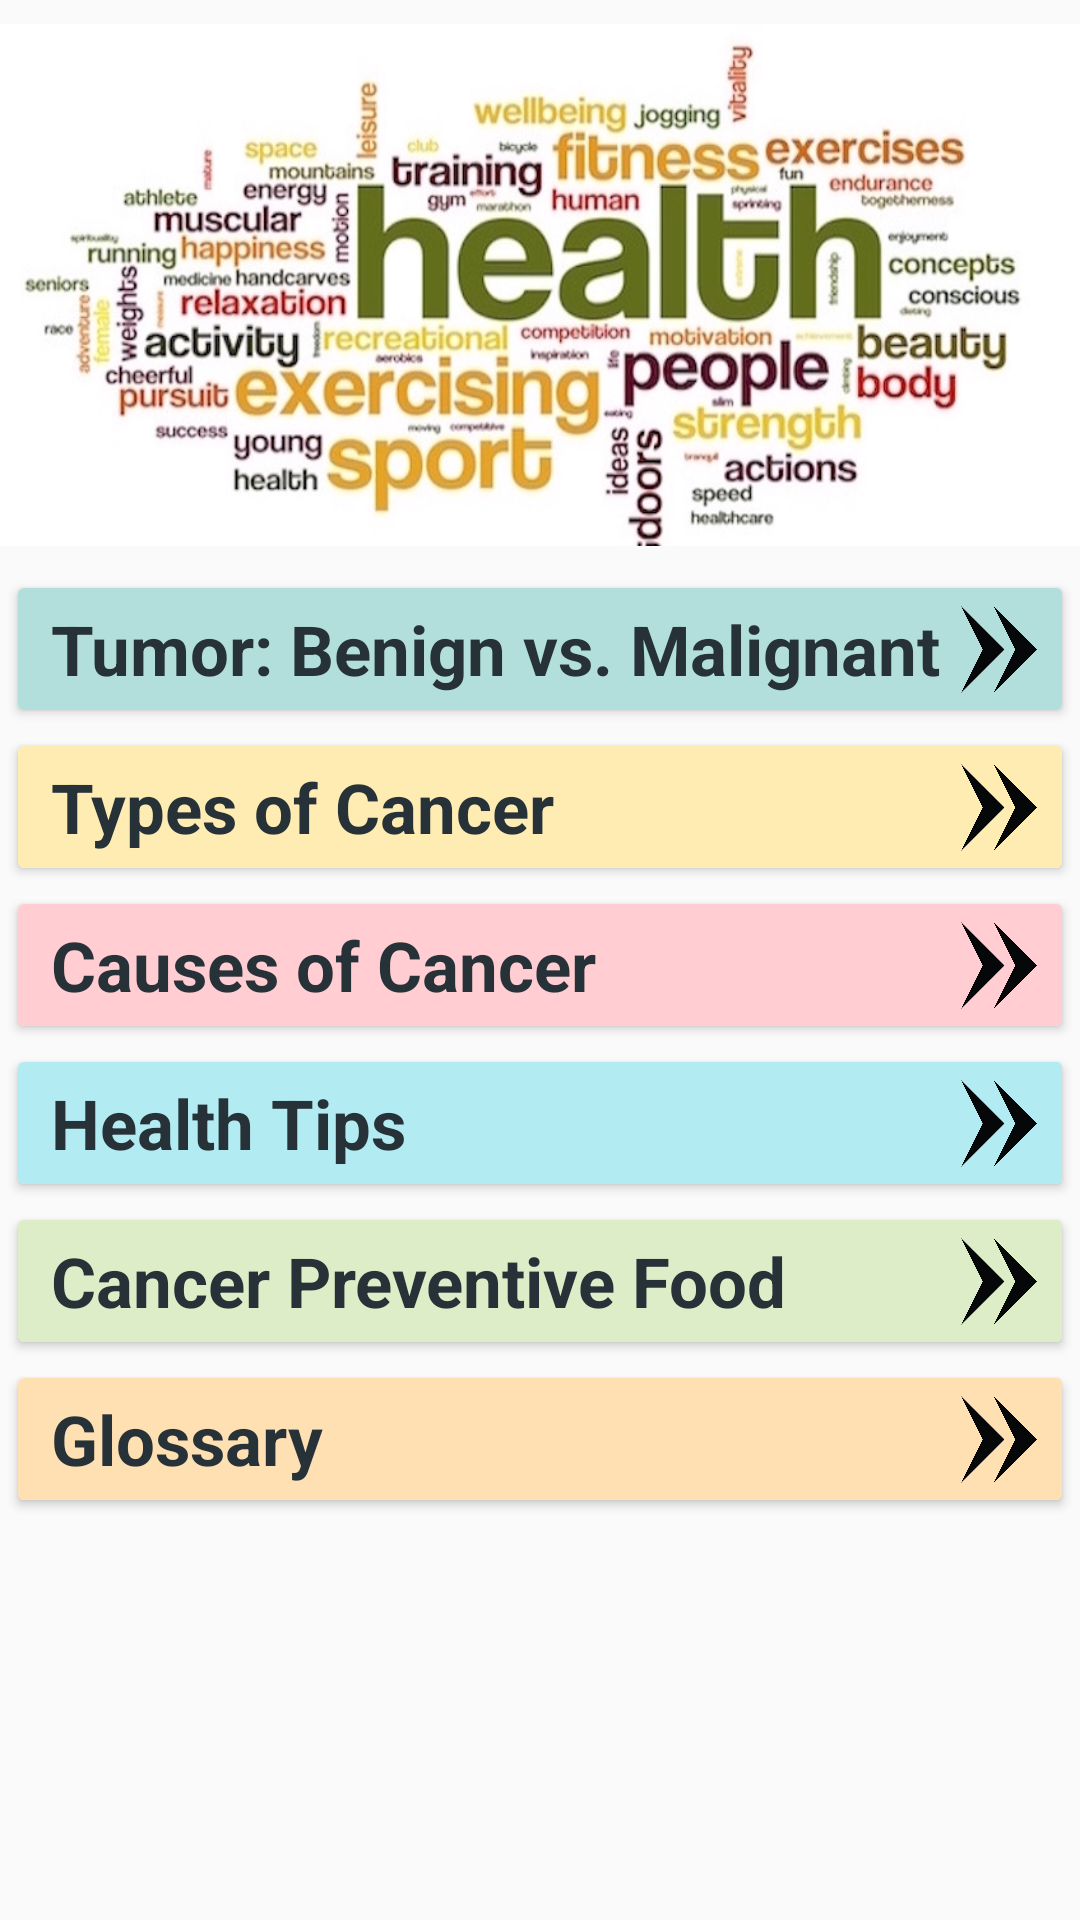

Icon bounding boxes for this 1080x1920 phone screenshot, format (x1, y1, x2, y2):
arrow: (961, 606, 1037, 693), (961, 764, 1037, 851), (961, 922, 1037, 1009), (961, 1080, 1037, 1167), (961, 1238, 1037, 1325), (961, 1396, 1037, 1483)
